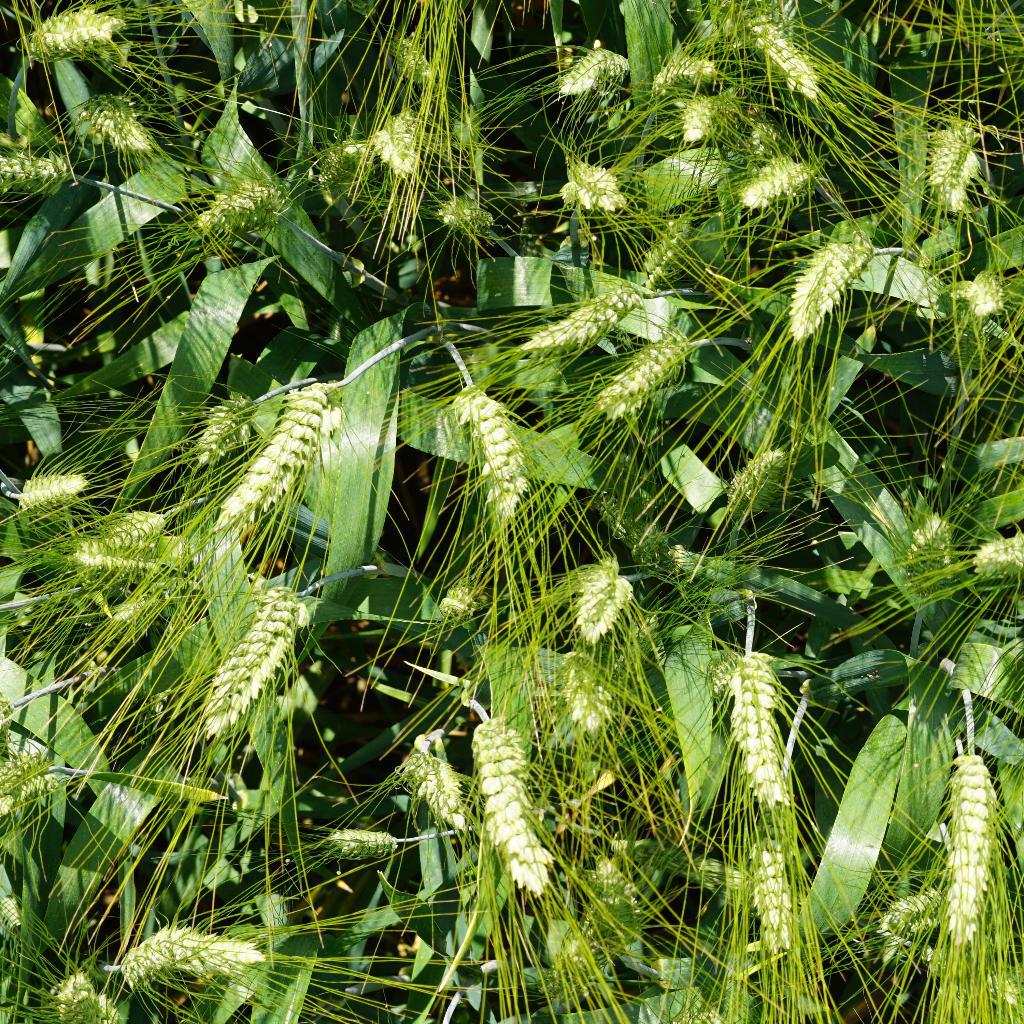0-0: (213, 366, 344, 550), (469, 707, 566, 896), (197, 578, 305, 742), (707, 624, 799, 802), (935, 736, 1002, 948), (448, 378, 538, 531), (577, 324, 712, 424), (104, 915, 273, 993), (788, 224, 892, 346), (512, 268, 646, 358), (740, 821, 806, 953), (735, 0, 826, 93), (397, 730, 474, 834), (556, 552, 642, 645), (535, 35, 640, 109), (589, 487, 677, 573), (710, 436, 803, 516), (64, 86, 168, 157), (352, 92, 428, 185), (921, 110, 990, 212), (67, 500, 178, 563), (941, 253, 1024, 337), (185, 172, 284, 241), (549, 646, 623, 735), (55, 525, 164, 584), (635, 30, 729, 98), (0, 723, 62, 825), (867, 875, 945, 956), (19, 8, 133, 62), (892, 492, 953, 589), (957, 501, 1024, 589), (732, 150, 822, 213), (176, 388, 245, 470), (301, 130, 379, 202), (638, 205, 700, 291), (93, 587, 175, 651), (34, 957, 112, 1024), (606, 603, 666, 690), (18, 455, 103, 515), (374, 17, 444, 88), (590, 859, 654, 934), (553, 154, 626, 219), (426, 185, 494, 249), (545, 922, 602, 998), (0, 142, 71, 198), (325, 815, 402, 864), (429, 568, 488, 627), (676, 93, 732, 148)
